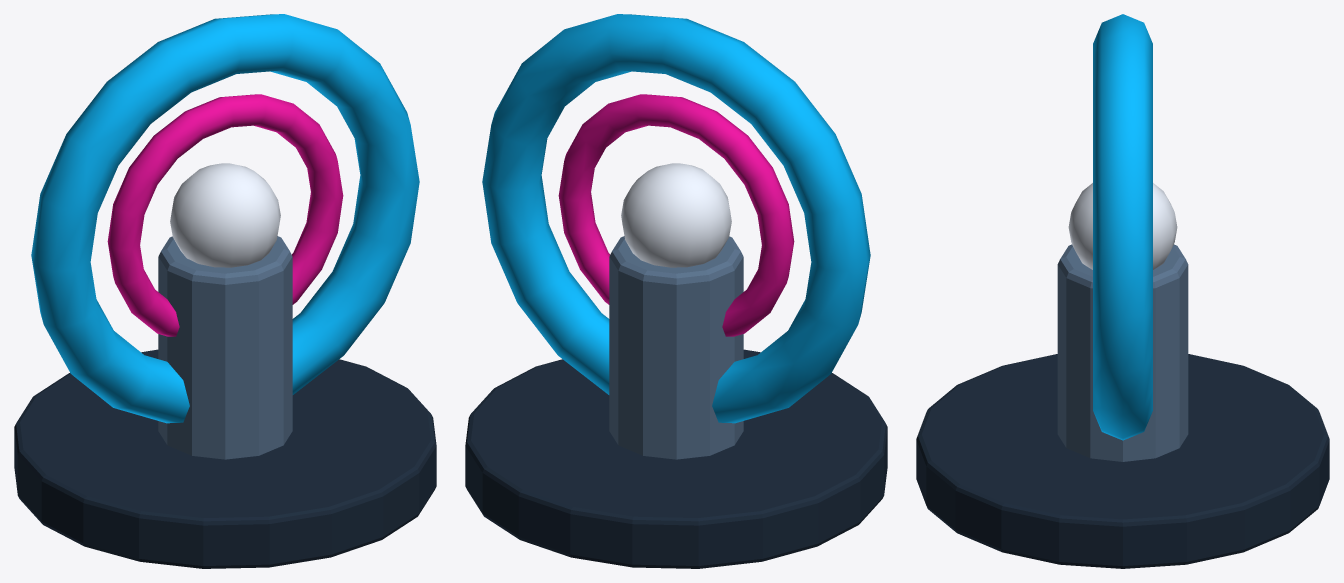
Rendered from shield_pickup.obj.
The picture shows the model from 3 angles, left to right: view 1: azimuth 30°, elevation 25°; view 2: azimuth 150°, elevation 25°; view 3: azimuth 270°, elevation 25°; orthographic projection. The views are drawn at different scales.
Visible parts, largest first — view 1: shield_base_M_gunmetal, shield_field_outer_M_cyan, shield_emitter_M_steel, shield_field_inner_M_magenta, shield_core_M_white; view 2: shield_base_M_gunmetal, shield_field_outer_M_cyan, shield_emitter_M_steel, shield_field_inner_M_magenta, shield_core_M_white; view 3: shield_base_M_gunmetal, shield_field_outer_M_cyan, shield_emitter_M_steel, shield_core_M_white.
Boxes of the visible parts, x1,y1,x2,y2 form: shield_base_M_gunmetal: (14, 349, 436, 568); shield_field_outer_M_cyan: (31, 14, 419, 423); shield_emitter_M_steel: (158, 236, 292, 459); shield_field_inner_M_magenta: (107, 94, 343, 336); shield_core_M_white: (170, 163, 280, 267); shield_base_M_gunmetal: (465, 349, 887, 568); shield_field_outer_M_cyan: (482, 14, 870, 423); shield_emitter_M_steel: (609, 236, 743, 459); shield_field_inner_M_magenta: (558, 94, 794, 336); shield_core_M_white: (621, 163, 731, 267); shield_base_M_gunmetal: (916, 354, 1329, 568); shield_field_outer_M_cyan: (1093, 14, 1152, 440); shield_emitter_M_steel: (1057, 244, 1188, 461); shield_core_M_white: (1068, 183, 1177, 269).
Size of the model in its own units: 0.79 by 0.915 by 0.76.
